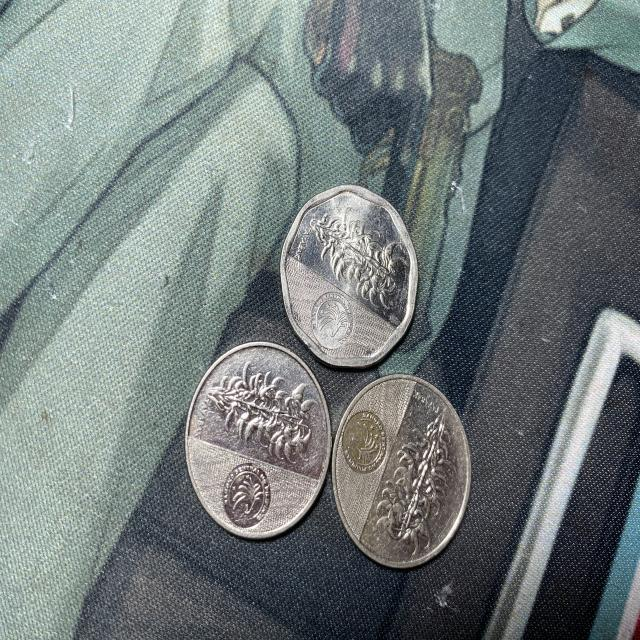5_New_Back: (360, 406, 454, 565), (211, 364, 306, 459), (322, 216, 408, 307)
